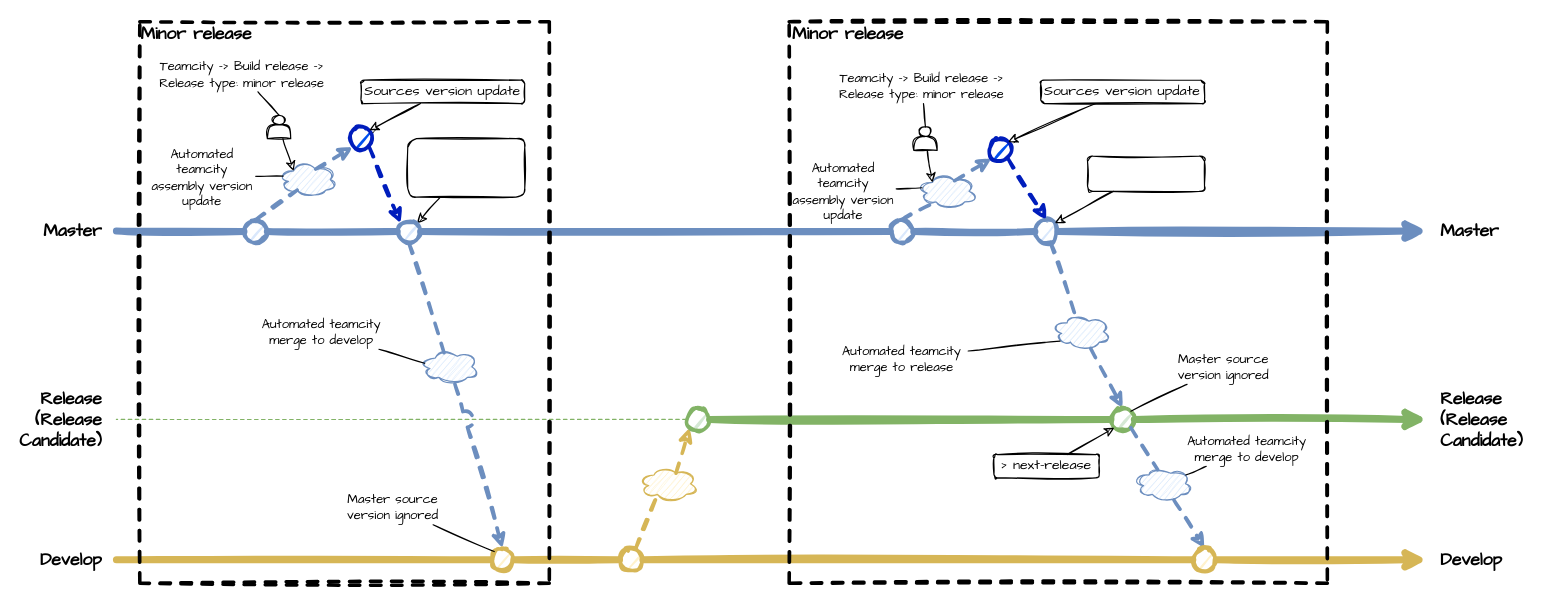
The diagram is 1542 pixels wide and 605 high, and some of its shapes have lost their labels. Here are the shapes that lost their labels. From the top down, the centre of each, then its label:
At point (466, 167): "+ v1.0.1 > current-release > next-release".
At point (1145, 173): "+ v1.0.2 > current-release".
